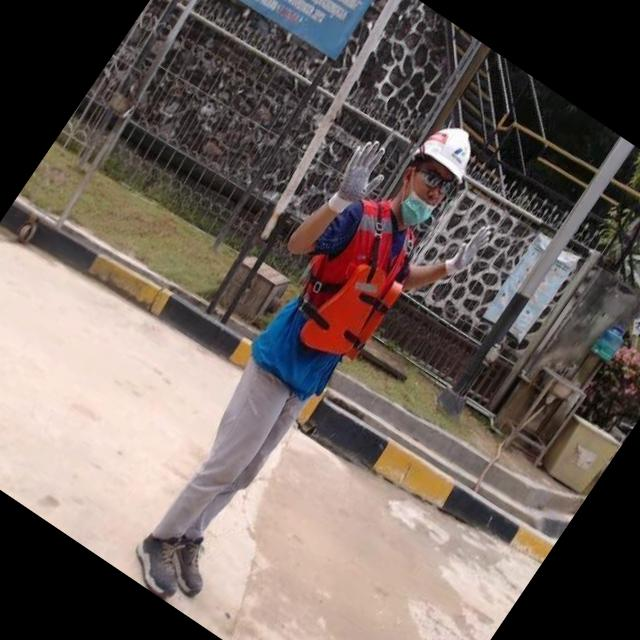hard_hat: (412, 113, 487, 184)
safety_vest: (246, 181, 443, 409)
vehicle: (76, 69, 548, 640)
work_boots: (121, 522, 202, 604), (154, 526, 226, 600)
